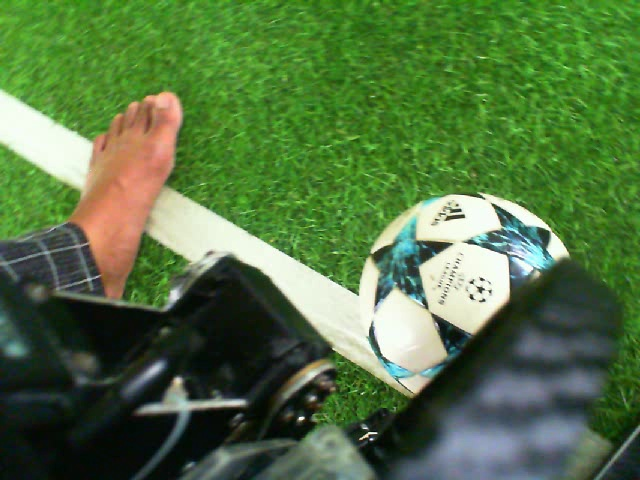ball: (356, 189, 574, 400)
